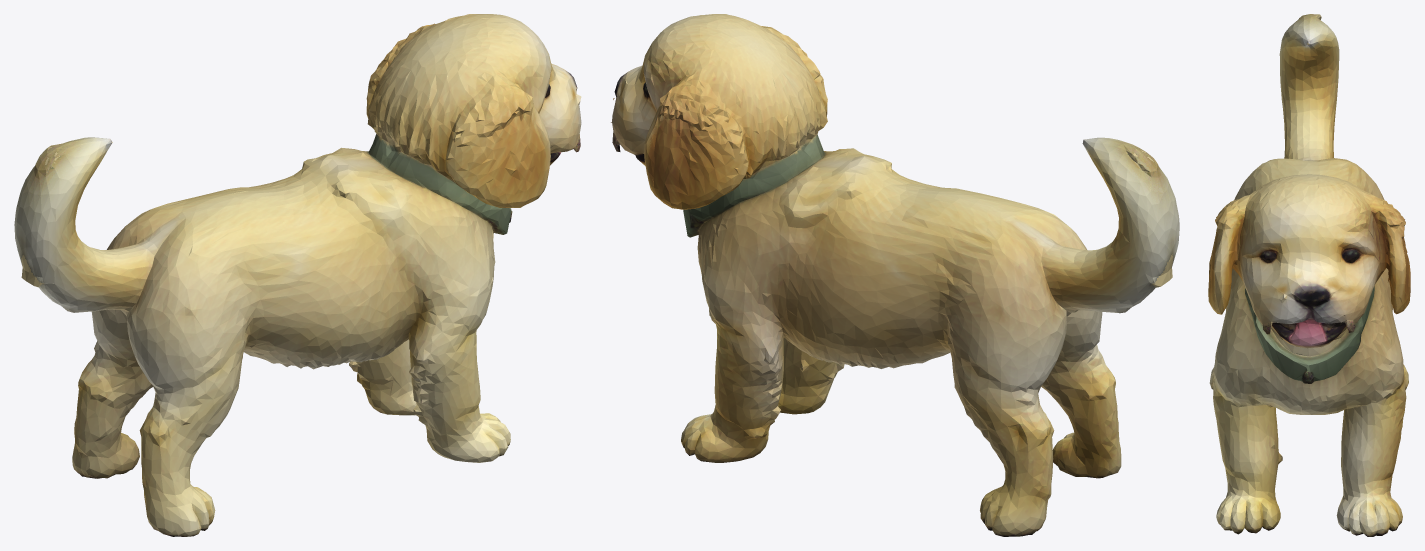
Rendered from dog-3d-v2.glb.
3 renders of one model, left to right at view 1: azimuth 30°, elevation 25°; view 2: azimuth 150°, elevation 25°; view 3: azimuth 270°, elevation 25°, orthographic. The views are drawn at different scales.
Visible parts, largest first — view 1: world; view 2: world; view 3: world.
Boxes of the visible parts, box(x1,y1,x2,y2) form: world: box(14, 14, 581, 536); world: box(611, 14, 1179, 536); world: box(1208, 14, 1410, 536).
Size of the model in its own units: 0.9995 by 0.6832 by 0.3486.
1 material, 1 textured.
